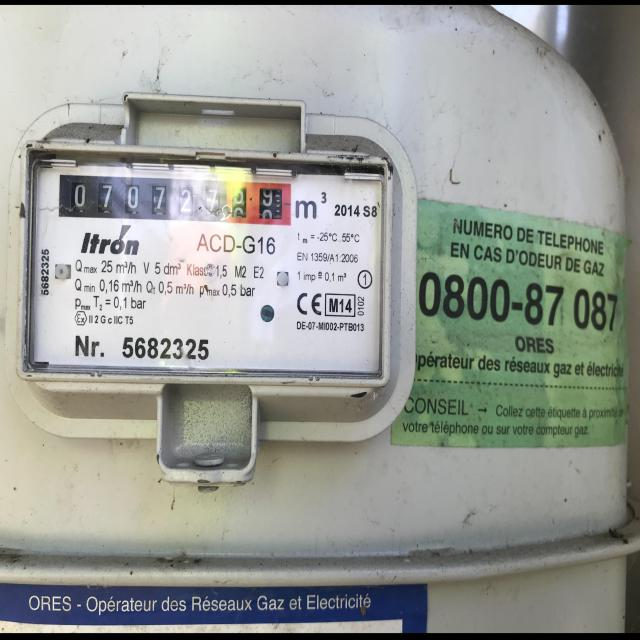gaz_meter: (24, 141, 384, 381)
indication: (60, 176, 291, 225)
